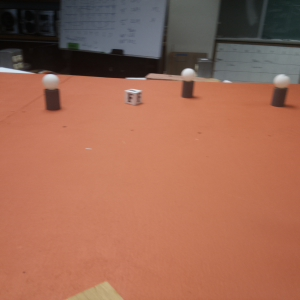obstacle: (270, 74, 290, 108), (43, 74, 61, 111), (180, 67, 197, 97)
